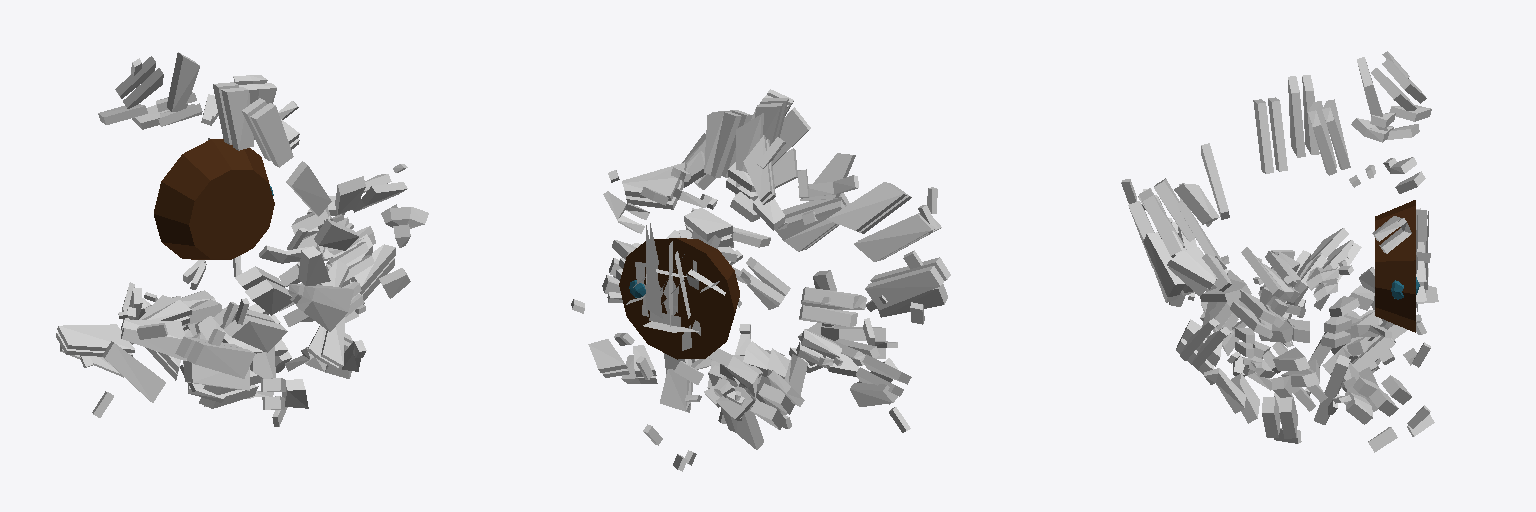
3 views of the same model, side by side, from view 1: azimuth 30°, elevation 25°; view 2: azimuth 150°, elevation 25°; view 3: azimuth 270°, elevation 25° (orthographic).
Visible parts, largest first — view 1: Cone.001_Cone.001_cover, Cone_Cone_cover, Cylinder_Cylinder_Material.001; view 2: Cone_Cone_cover, Cone.001_Cone.001_cover, Cylinder_Cylinder_Material.001, Plane_Plane_Material.003; view 3: Cone.001_Cone.001_cover, Cone_Cone_cover, Cylinder_Cylinder_Material.001, Plane_Plane_Material.003.
Part boxes in pixels (left/top/right/bottom): Cone.001_Cone.001_cover: left=56, top=52, right=407, bottom=417; Cone_Cone_cover: left=137, top=176, right=428, bottom=426; Cylinder_Cylinder_Material.001: left=154, top=139, right=274, bottom=259; Cone_Cone_cover: left=571, top=105, right=950, bottom=471; Cone.001_Cone.001_cover: left=603, top=89, right=937, bottom=445; Cylinder_Cylinder_Material.001: left=619, top=238, right=739, bottom=359; Plane_Plane_Material.003: left=626, top=223, right=725, bottom=350; Cone.001_Cone.001_cover: left=1121, top=51, right=1431, bottom=428; Cone_Cone_cover: left=1128, top=178, right=1434, bottom=452; Cylinder_Cylinder_Material.001: left=1375, top=200, right=1415, bottom=332; Plane_Plane_Material.003: left=1416, top=208, right=1438, bottom=311.
Bounding box in the file's own units: 3.19 × 3.34 × 2.64.
Materials: 4 (1 with a texture image).